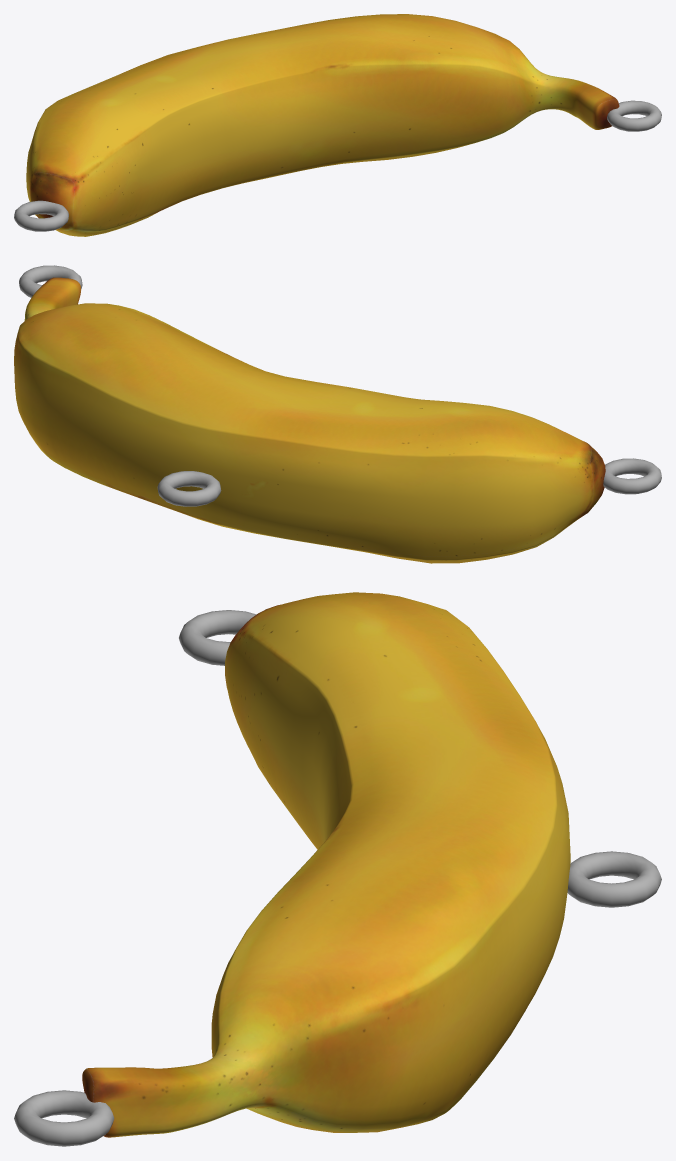
File: 21942_Banana_v1.obj
3 views of the same model, one above another, from view 1: azimuth 30°, elevation 25°; view 2: azimuth 150°, elevation 25°; view 3: azimuth 270°, elevation 25° (orthographic). The views are drawn at different scales.
Visible parts, largest first — view 1: 21942_Banana_v1; view 2: 21942_Banana_v1; view 3: 21942_Banana_v1.
Boxes of the visible parts, x1=… form: 21942_Banana_v1: x1=14, y1=14, x2=661, y2=236; 21942_Banana_v1: x1=14, y1=265, x2=661, y2=563; 21942_Banana_v1: x1=14, y1=592, x2=661, y2=1146.
Bounding box in the file's own units: 9.35 × 1.89 × 4.9.
1 material, 1 textured.
